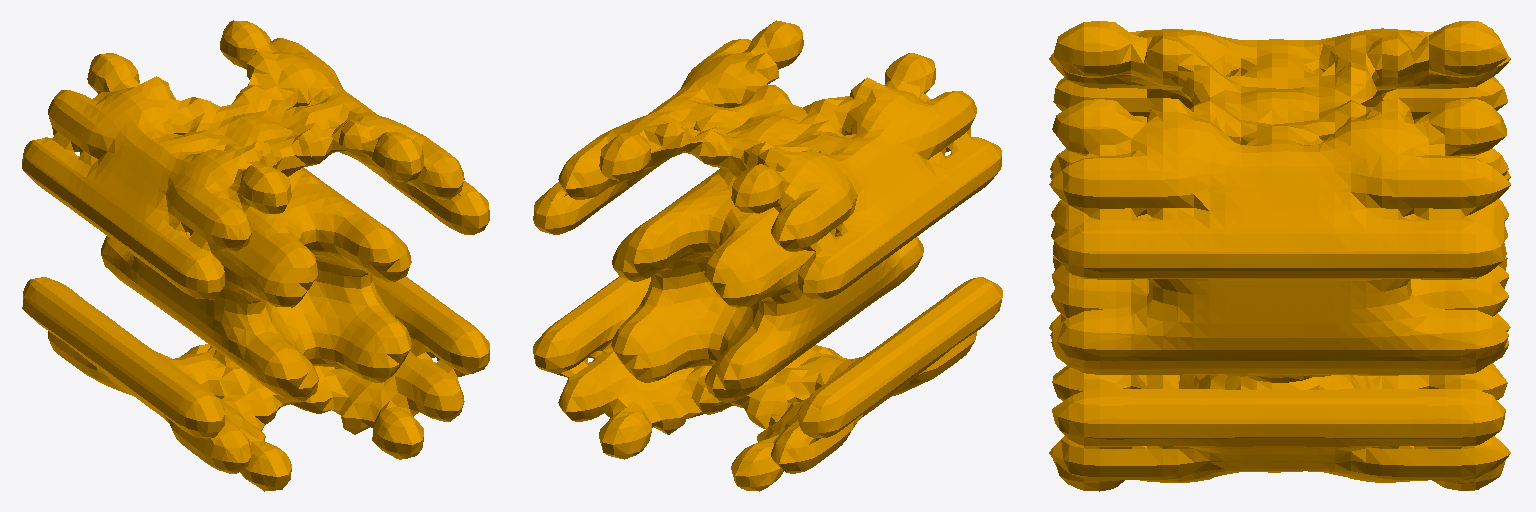
URDF robot description (K24_2):
<?xml version="1.0"?>
<robot name="K24_2">
  <link name="base_link">
    <inertial>
      <mass value="0.07485" />
      <origin xyz="0 0 0" />
      <inertia  ixx="0.0002" ixy="0.0"  ixz="0.0"  iyy="0.0002"  iyz="0.0" izz="0.0002" />
    </inertial>
    <visual>
      <geometry>
        <mesh filename="../../../meshes/egad/train/K24_2.obj" />
      </geometry>
    </visual>
    <collision>
      <geometry>
        <mesh filename="../../../meshes/egad/train/K24_2.obj" />
      </geometry>
    </collision>
  </link>
</robot>

--- Render facts (derived) ---
The picture shows the robot from 3 angles, left to right: view 1: azimuth 30°, elevation 25°; view 2: azimuth 150°, elevation 25°; view 3: azimuth 270°, elevation 25°; orthographic projection.
Model K24_2 with 1 links and 0 joints (none), rooted at base_link, posed all joints at 0.
Visible links, largest first — view 1: base_link; view 2: base_link; view 3: base_link.
Link boxes in pixels (left/top/right/bottom): base_link: left=22, top=20, right=489, bottom=491; base_link: left=533, top=20, right=1002, bottom=491; base_link: left=1049, top=21, right=1510, bottom=491.
Size in the robot's own frame: 0.0601 by 0.0651 by 0.06 metres.
1 mesh visuals loaded from 1 distinct referenced files (1 OBJ).